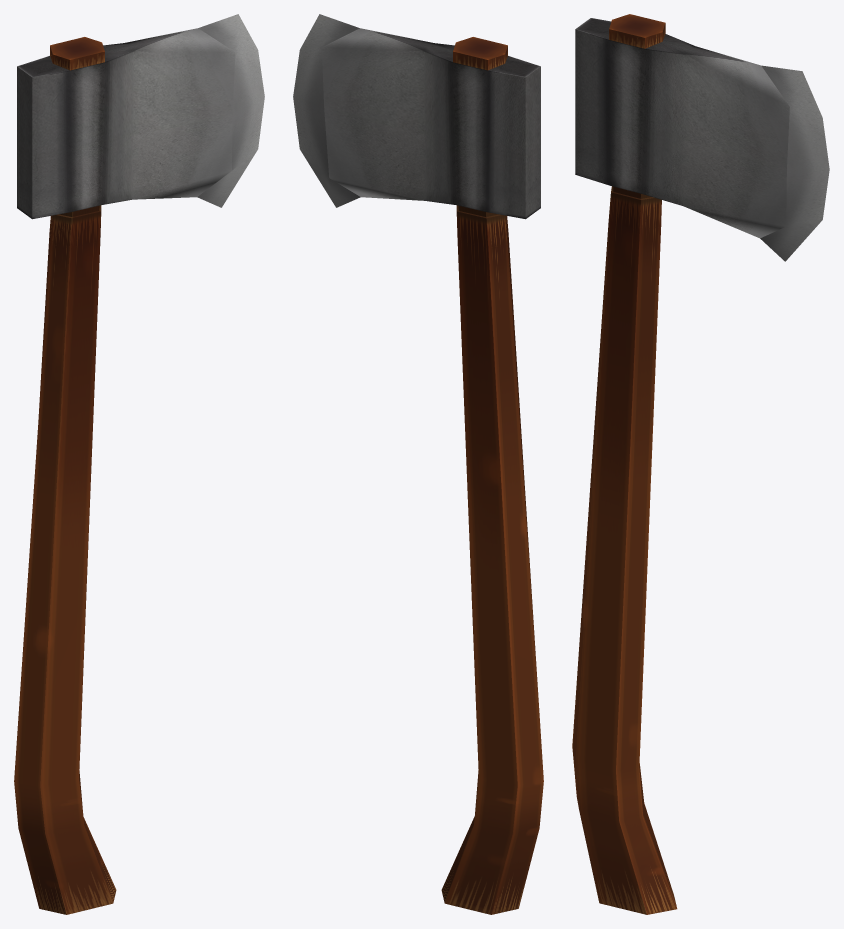
Rendered from MD_Axe.fbx.
3 views of the same model, side by side, from view 1: azimuth 30°, elevation 25°; view 2: azimuth 150°, elevation 25°; view 3: azimuth 330°, elevation 25° (orthographic). The views are drawn at different scales.
Visible parts, largest first — view 1: Axe1; view 2: Axe1; view 3: Axe1.
Boxes of the visible parts, left/top/right/bottom form: Axe1: left=14, top=14, right=264, bottom=914; Axe1: left=293, top=14, right=543, bottom=914; Axe1: left=572, top=14, right=829, bottom=914.
Size of the model in its own units: 16.28 by 52.78 by 2.95.
Materials: 1 (1 with a texture image).
